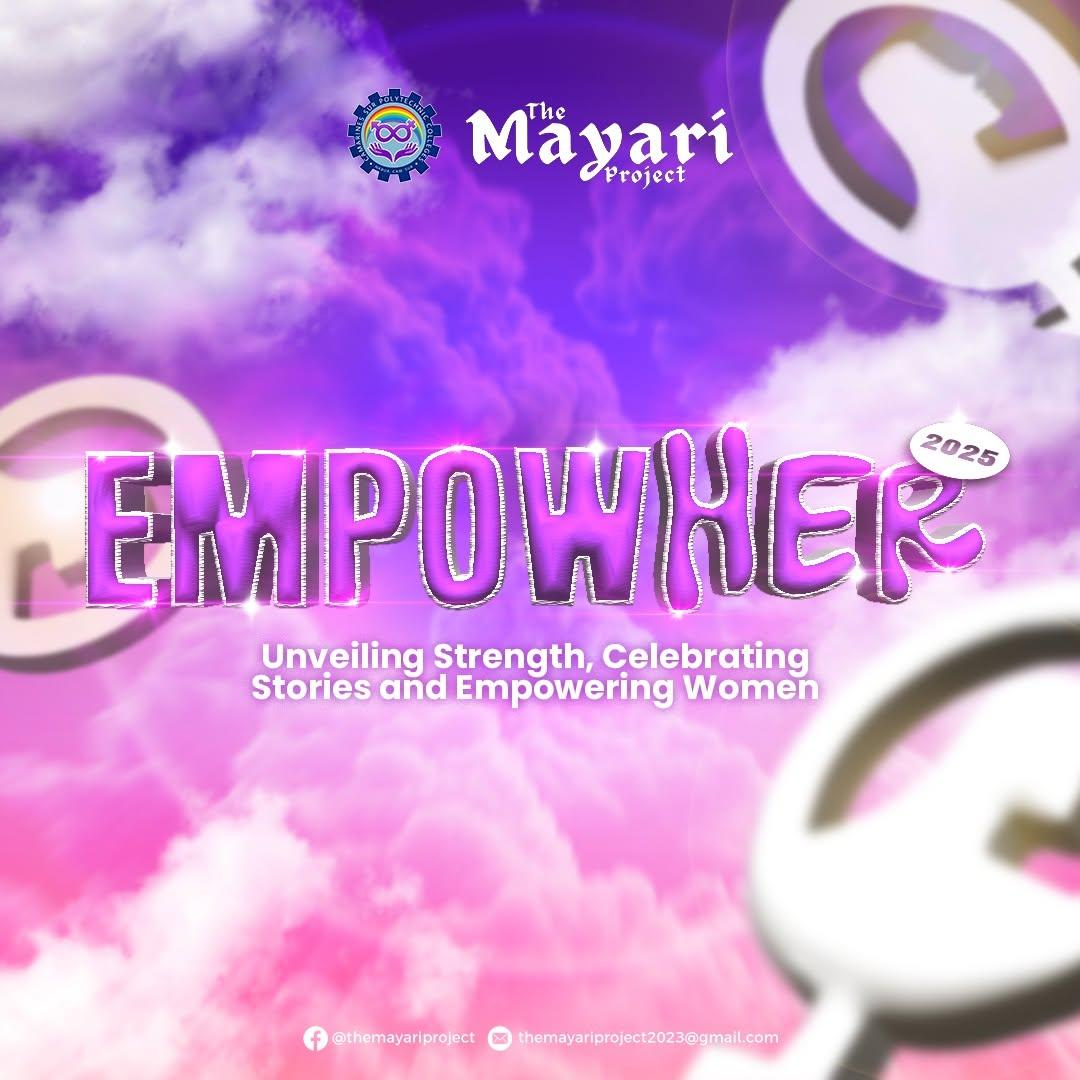embellishment: (300, 1023, 331, 1054), (486, 1023, 515, 1054)
logo: (343, 83, 446, 188)
text: (76, 414, 999, 617), (246, 636, 830, 716), (462, 90, 742, 191), (515, 1028, 785, 1050), (914, 428, 1011, 474), (331, 1028, 479, 1049)
underlay: (911, 423, 1010, 480)
